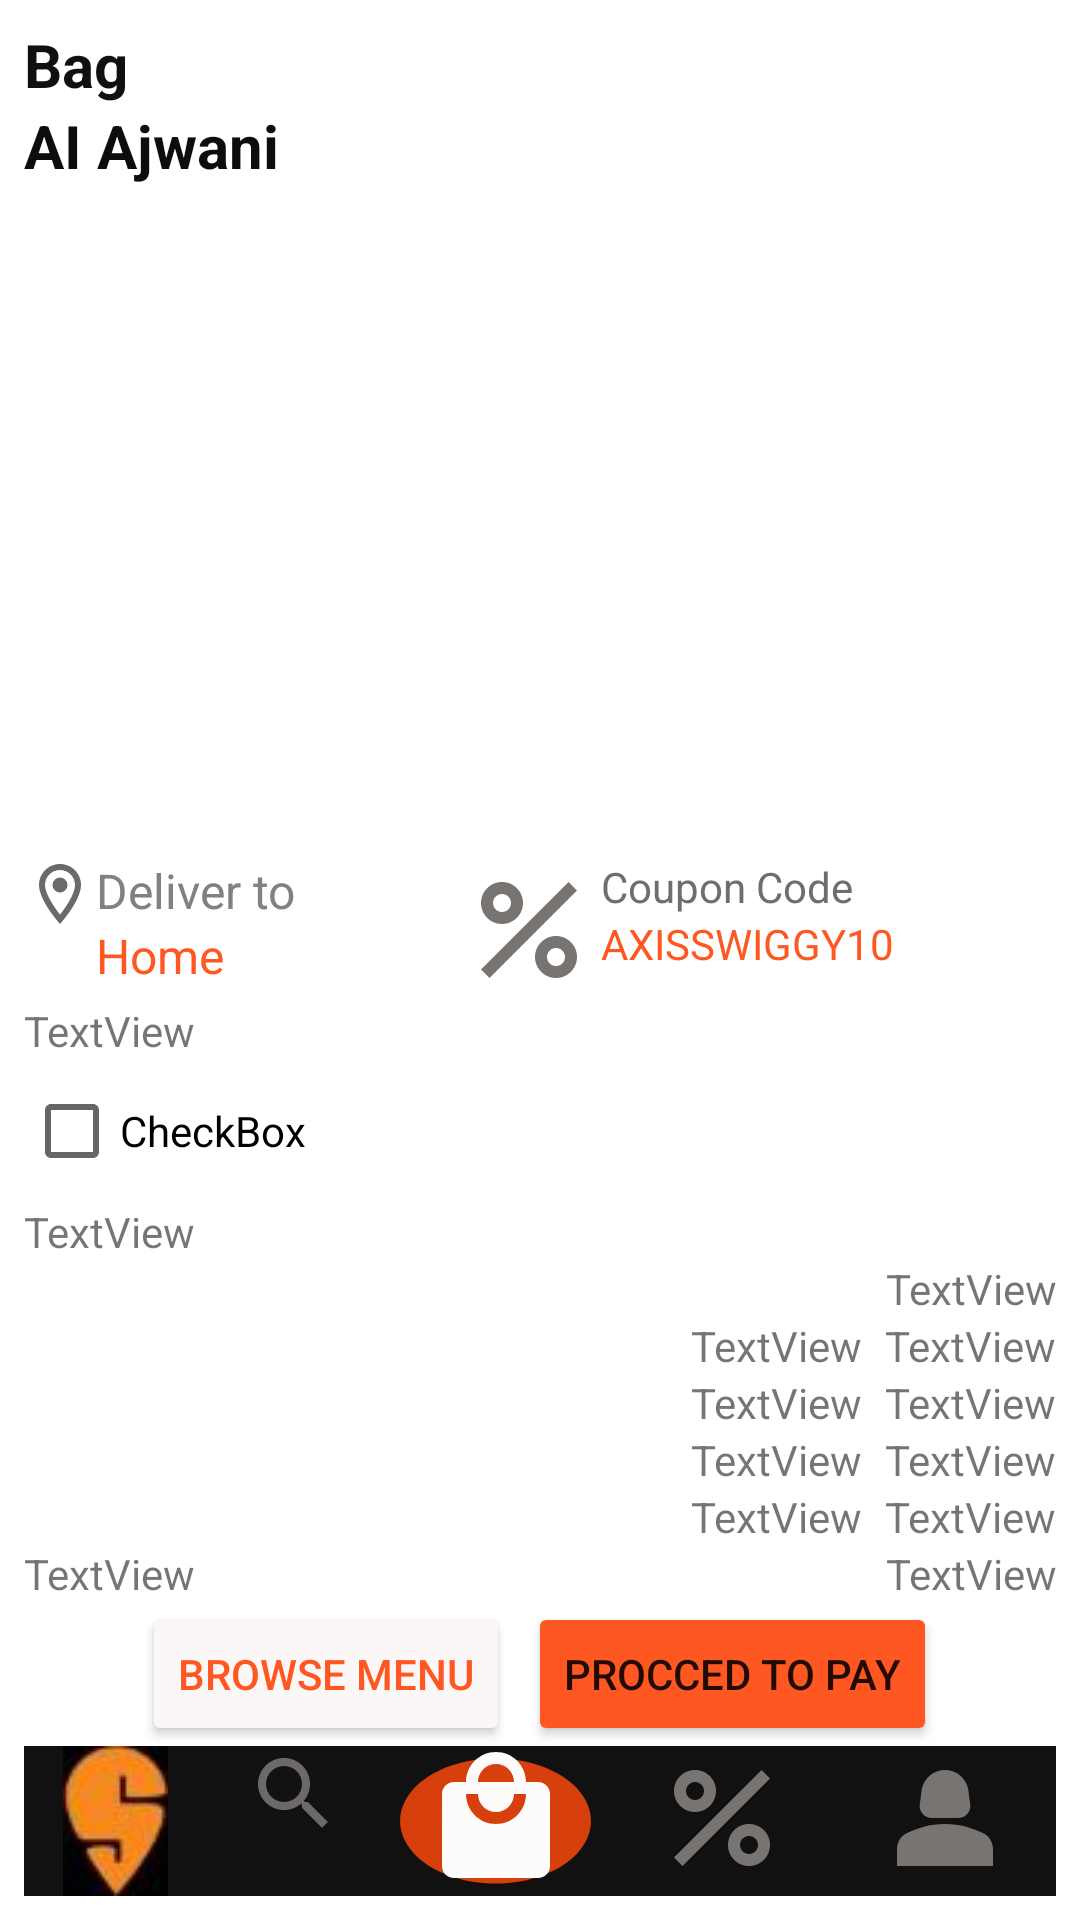

Icon click points for this 1080*1920 phone screenshot, format (x,y):
local mall: (495,1818)
location on: (60,894)
percent: (529,930), (722,1818)
person: (945,1818)
search: (293,1793)
